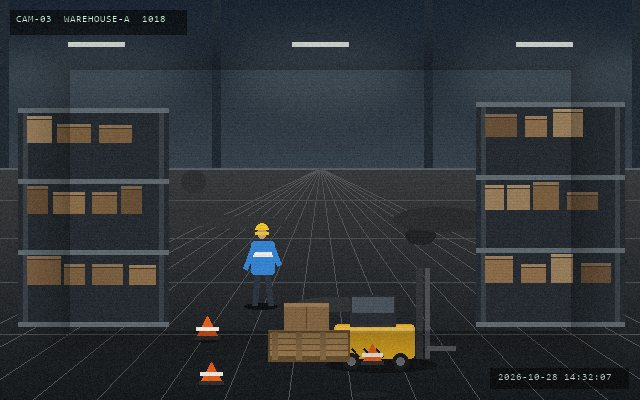cone: (194, 314, 220, 342), (198, 360, 224, 387), (360, 342, 384, 367)
forklift: (330, 266, 457, 372)
pallet: (266, 328, 351, 363)
person: (244, 221, 281, 308)
shelf: (18, 108, 168, 322), (550, 212, 550, 212)
